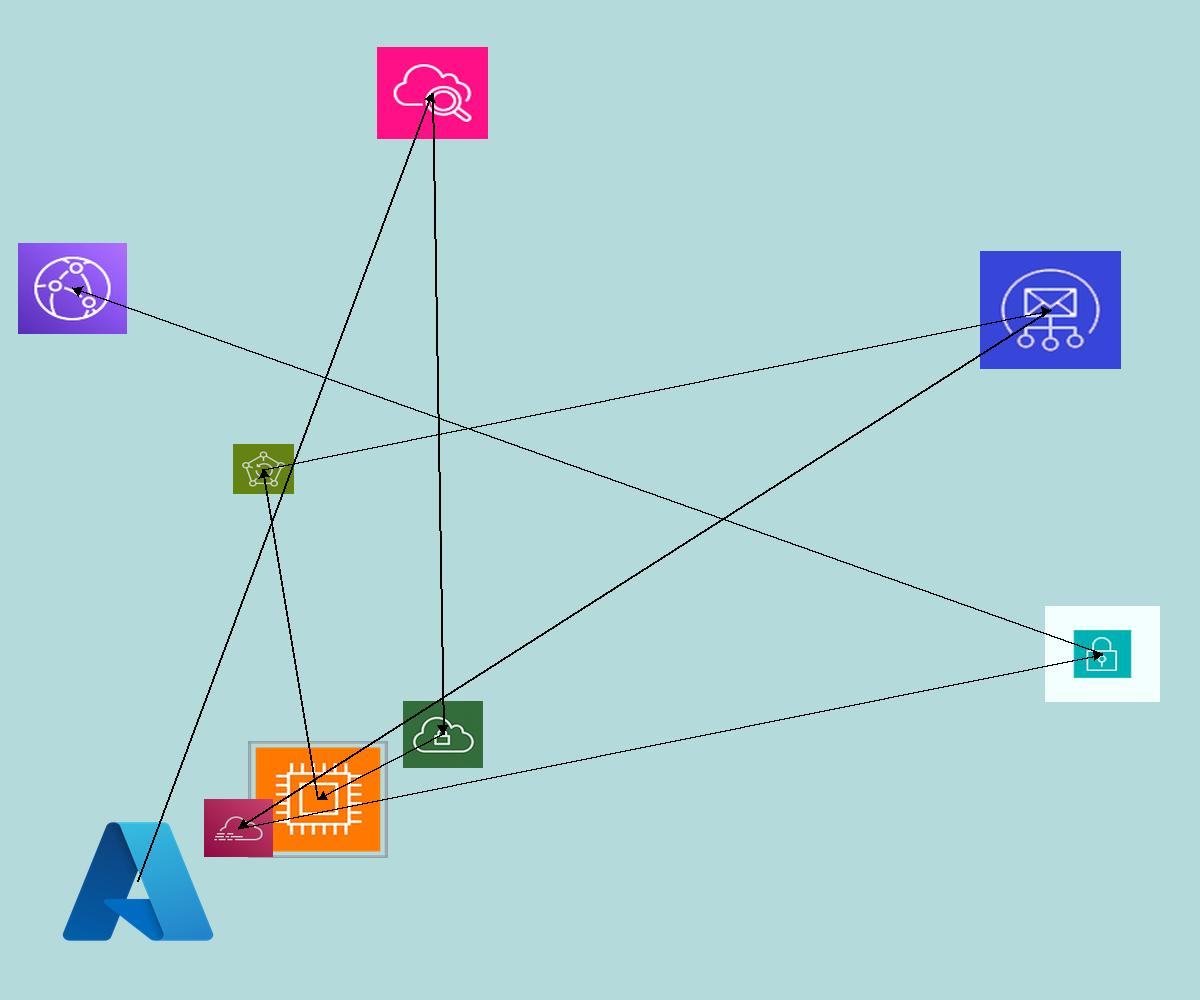AWS-Backup: (233, 444, 294, 494)
AWS-Category_Compute: (248, 741, 388, 858)
AWS-CloudFront: (18, 243, 127, 334)
AWS-CloudTrail: (204, 799, 273, 857)
AWS-CloudWatch: (377, 47, 488, 139)
AWS-Private-subnet: (1045, 606, 1160, 702)
AWS-Private_vpc: (403, 701, 483, 768)
AWS-Simple-Email-Service: (980, 251, 1121, 369)
Azure_services: (56, 813, 220, 950)
